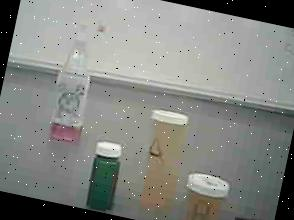Bottle A: (128, 105, 194, 218)
Bottle B: (175, 169, 232, 220)
Bottle C: (79, 136, 131, 216)
hazard: (40, 15, 112, 154)
